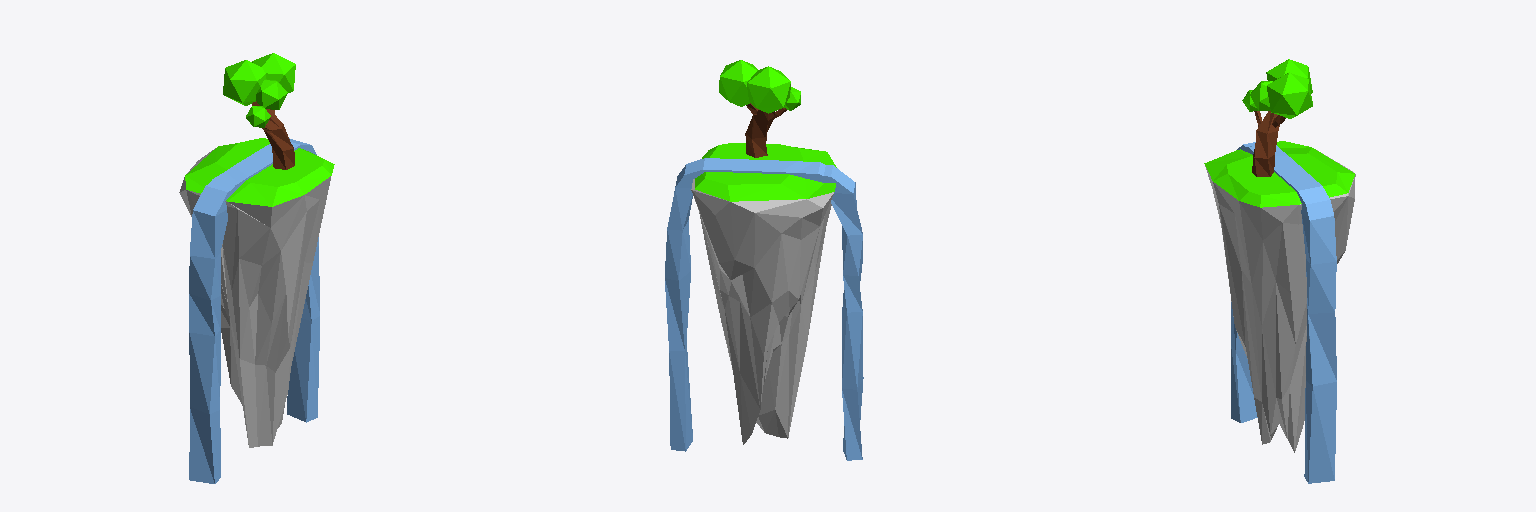
3 renders of one model, left to right at view 1: azimuth 30°, elevation 25°; view 2: azimuth 150°, elevation 25°; view 3: azimuth 270°, elevation 25°, orthographic.
Parts seen in each view (by area): view 1: Landscape, Cube, Platonic.1, Cylinder, Platonic.3, Platonic.2; view 2: Landscape, Cube, Platonic.1, Platonic.3, Cylinder; view 3: Landscape, Cube, Platonic.3, Cylinder, Platonic.1.
Part boxes in pixels (bbox=[...]): Landscape: bbox=[179, 138, 334, 447]; Cube: bbox=[189, 138, 319, 483]; Platonic.1: bbox=[223, 60, 265, 105]; Cylinder: bbox=[252, 101, 294, 169]; Platonic.3: bbox=[252, 53, 295, 92]; Platonic.2: bbox=[256, 79, 287, 109]; Landscape: bbox=[691, 143, 836, 444]; Cube: bbox=[665, 158, 863, 460]; Platonic.1: bbox=[747, 66, 790, 113]; Platonic.3: bbox=[719, 60, 757, 106]; Cylinder: bbox=[745, 110, 774, 157]; Landscape: bbox=[1204, 141, 1355, 452]; Cube: bbox=[1231, 142, 1336, 483]; Platonic.3: bbox=[1267, 72, 1312, 118]; Cylinder: bbox=[1252, 111, 1279, 176]; Platonic.1: bbox=[1266, 59, 1312, 93].
Bounding box in the file's own units: 22.77 × 52.35 × 18.44.
4 materials, 3 textured.